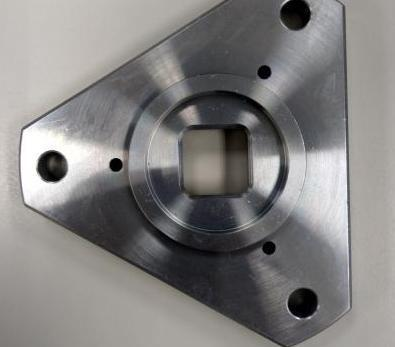hole: (29, 146, 72, 186), (283, 280, 323, 321), (272, 0, 315, 33), (252, 62, 276, 84), (259, 239, 280, 256), (107, 156, 125, 174)
